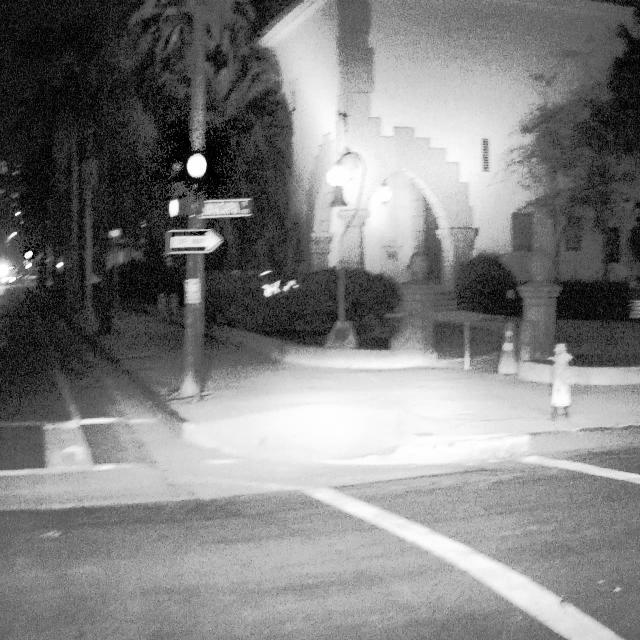Light: (186, 153, 208, 179), (167, 199, 180, 219)
Sign: (166, 227, 224, 255), (193, 199, 255, 219), (184, 278, 202, 303)
